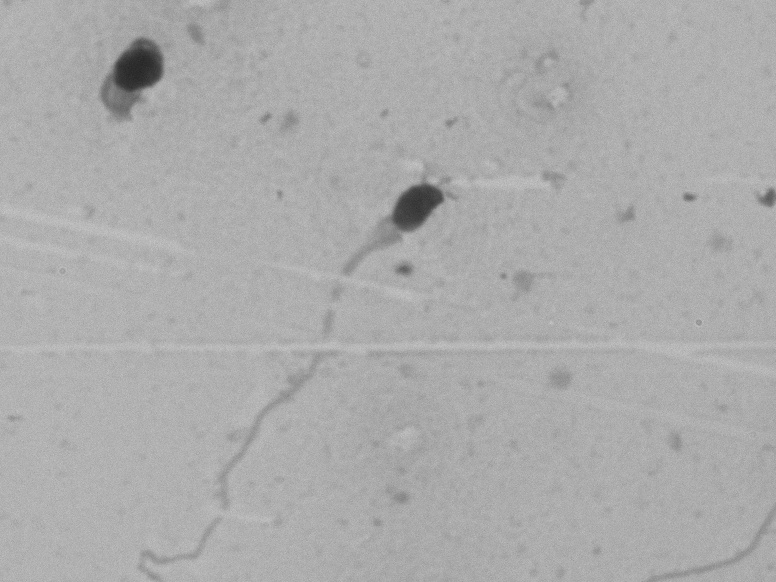Abnormal: (127, 152, 473, 490), (56, 12, 191, 134)
